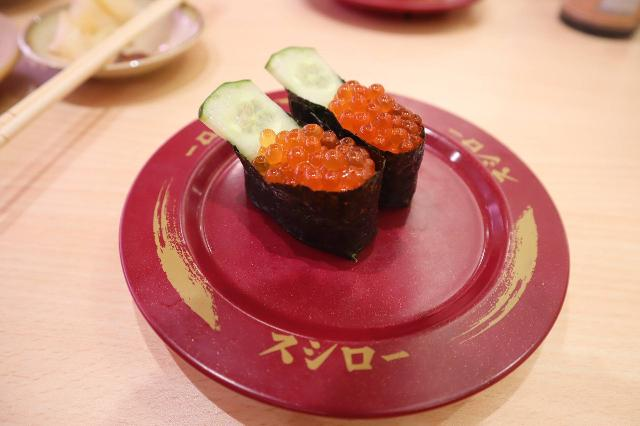janred: (123, 88, 585, 402), (326, 0, 477, 28)
